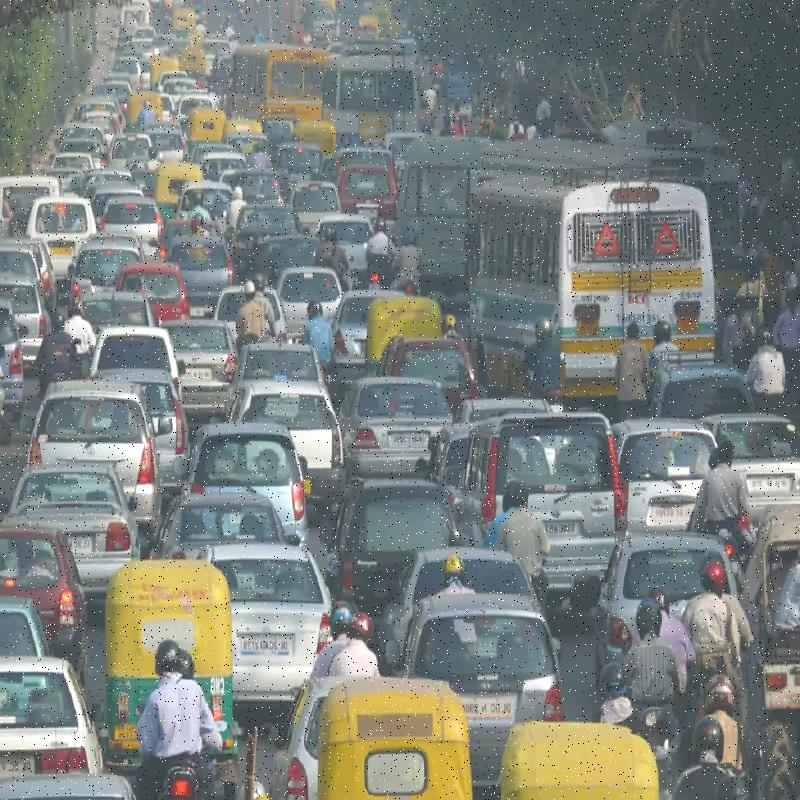auto: (103, 565, 240, 772), (284, 656, 478, 800), (489, 722, 662, 800), (368, 290, 440, 356), (148, 156, 206, 226), (180, 107, 229, 157)
car: (429, 395, 616, 588), (36, 375, 160, 527), (15, 448, 136, 588), (182, 418, 306, 551), (342, 363, 449, 494), (159, 311, 232, 426)
